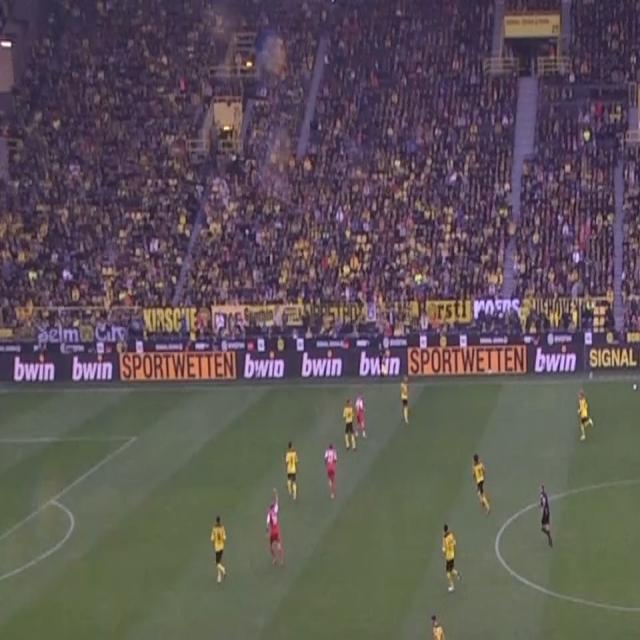ball: (632, 382, 637, 391)
